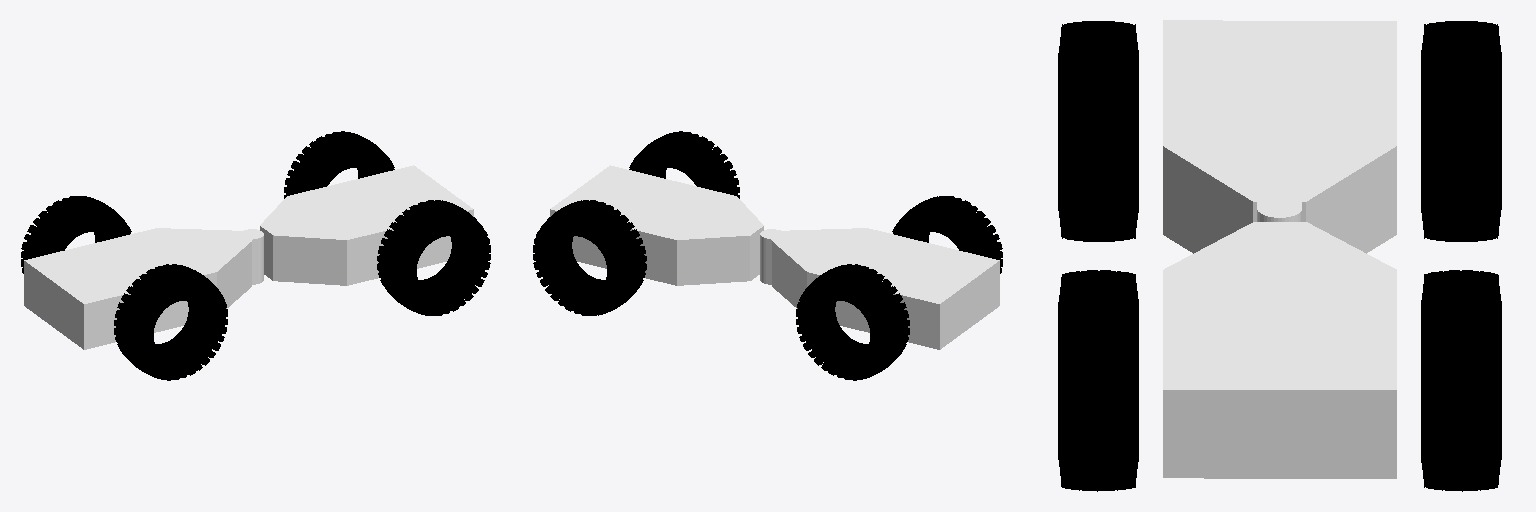
robot.urdf — wagon:
<?xml version="1.0" ?>
<!-- =================================================================================== -->
<!-- |    This document was autogenerated by xacro from wagon.xacro                    | -->
<!-- |    EDITING THIS FILE BY HAND IS NOT RECOMMENDED                                 | -->
<!-- =================================================================================== -->
<robot name="wagon">
  <!-- Init colour -->
  <material name="black">
    <color rgba="0.0 0.0 0.0 1.0"/>
  </material>
  <material name="dark">
    <color rgba="0.3 0.3 0.3 1.0"/>
  </material>
  <material name="light_black">
    <color rgba="0.4 0.4 0.4 1.0"/>
  </material>
  <material name="blue">
    <color rgba="0.0 0.0 0.8 1.0"/>
  </material>
  <material name="green">
    <color rgba="0.0 0.8 0.0 1.0"/>
  </material>
  <material name="grey">
    <color rgba="0.5 0.5 0.5 1.0"/>
  </material>
  <material name="orange">
    <color rgba="1.0 0.4235294117647059 0.0392156862745098 1.0"/>
  </material>
  <material name="brown">
    <color rgba="0.8705882352941177 0.8117647058823529 0.7647058823529411 1.0"/>
  </material>
  <material name="red">
    <color rgba="0.8 0.0 0.0 1.0"/>
  </material>
  <material name="white">
    <color rgba="1.0 1.0 1.0 1.0"/>
  </material>
  <material name="acrylic">
    <color rgba="0.9 0.9 1.0 0.6"/>
  </material>
  <link name="base_footprint"/>
  <joint name="base_joint" type="fixed">
    <parent link="base_footprint"/>
    <child link="base_link"/>
    <origin rpy="0 0 0" xyz="0.6948 0 0"/>
  </joint>
  <link name="base_link">
    <visual>
      <origin rpy="0 0 1.57" xyz="0 0 0"/>
      <geometry>
        <mesh filename="package://wagon_description/meshes/bases/Simplified_Front_Centered.stl" scale="0.001 0.001 0.001"/>
      </geometry>
      <material name="white"/>
    </visual>
    <collision>
      <origin rpy="0 0 0" xyz="-0.1873 0 0"/>
      <geometry>
        <box size="1.055 0.620 0.260"/>
      </geometry>
    </collision>
    <inertial>
      <origin rpy="0 1.5707963267948966 0" xyz="-0.142 0 0"/>
      <mass value="135.5"/>
      <inertia ixx="6.189" ixy="0" ixz="-0.009" iyy="17.997" iyz="0" izz="21.229"/>
    </inertial>
  </link>
  <joint name="hydrolic_joint" type="revolute">
    <axis xyz="0 0 1"/>
    <limit effort="1000.0" lower="-0.550" upper="0.550" velocity="0.5"/>
    <origin rpy="0 0 0" xyz="-0.7797999999999999 0.0 0"/>
    <parent link="base_link"/>
    <child link="hydrolic_link"/>
  </joint>
  <link name="hydrolic_link">
    </link>
  <joint name="rear_joint" type="fixed">
    <parent link="hydrolic_link"/>
    <child link="rear_link"/>
    <origin rpy="0 0 0" xyz="-0.7866000000000001 0 0"/>
  </joint>
  <link name="rear_link">
    <visual>
      <origin rpy="0 0 1.57" xyz="0 0 0"/>
      <geometry>
        <mesh filename="package://wagon_description/meshes/bases/Simplified_Back_Centered.stl" scale="0.001 0.001 0.001"/>
      </geometry>
      <material name="white"/>
    </visual>
    <!-- ${-0.8716+hydrolic_offset-(1.180/2)+0.02} -->
    <!-- ${(1.180/2) + 0.8716+hydrolic_offset+0.02-1.180} -->
    <collision>
      <origin rpy="0 0 0" xyz="0.09 0 0"/>
      <geometry>
        <box size="1.02 0.620 0.260"/>
      </geometry>
    </collision>
    <inertial>
      <origin rpy="0 0 0" xyz="0.142 0 0"/>
      <mass value="140.5"/>
      <inertia ixx="6.189" ixy="0" ixz="-0.009" iyy="17.997" iyz="0" izz="21.229"/>
    </inertial>
  </link>
  <joint name="wheel_front_right_joint" type="continuous">
    <parent link="base_link"/>
    <child link="wheel_front_right_link"/>
    <origin rpy="0 0 0" xyz="0 -0.4815 0"/>
    <axis xyz="0 1 0"/>
  </joint>
  <link name="wheel_front_right_link">
    <visual>
      <origin rpy="1.57 0 0" xyz="0 0 0"/>
      <geometry>
        <mesh filename="package://wagon_description/meshes/wheels/Wheel.stl" scale="0.001 0.001 0.001"/>
        <!--
      <origin xyz="0 0 0" rpy="0 0 0"/>
      <geometry>
        <cylinder length="0.07" radius="0.12"/>
        -->
      </geometry>
      <material name="black"/>
    </visual>
    <collision>
      <origin rpy="1.57 0 0" xyz="0 0 0"/>
      <geometry>
        <cylinder length="0.215" radius="0.292"/>
      </geometry>
    </collision>
    <inertial>
      <origin rpy="1.57 0 0" xyz="0 0 0"/>
      <mass value="40.5"/>
      <inertia ixx="1.05" ixy="1.0783e-10" ixz="-0.023" iyy="1.83" iyz="-0.898e-11" izz="1.05"/>
    </inertial>
  </link>
  <joint name="wheel_front_left_joint" type="continuous">
    <parent link="base_link"/>
    <child link="wheel_front_left_link"/>
    <origin rpy="0 0 0" xyz="0 0.4815 0"/>
    <axis xyz="0 1 0"/>
  </joint>
  <link name="wheel_front_left_link">
    <visual>
      <origin rpy="1.57 0 0" xyz="0 0 0"/>
      <geometry>
        <mesh filename="package://wagon_description/meshes/wheels/Wheel.stl" scale="0.001 0.001 0.001"/>
        <!--
      <origin xyz="0 0 0" rpy="0 0 0"/>
      <geometry>
        <cylinder length="0.07" radius="0.12"/>
        -->
      </geometry>
      <material name="black"/>
    </visual>
    <collision>
      <origin rpy="1.57 0 0" xyz="0 0 0"/>
      <geometry>
        <cylinder length="0.215" radius="0.294"/>
      </geometry>
    </collision>
    <inertial>
      <origin rpy="1.57 0 0" xyz="0 0 0"/>
      <mass value="40.5"/>
      <inertia ixx="1.05" ixy="1.0783e-10" ixz="-0.023" iyy="1.83" iyz="-0.898e-11" izz="1.05"/>
    </inertial>
  </link>
  <joint name="wheel_rear_right_joint" type="continuous">
    <parent link="rear_link"/>
    <child link="wheel_rear_right_link"/>
    <origin rpy="0 0 0" xyz="0 -0.4815 0"/>
    <axis xyz="0 1 0"/>
  </joint>
  <link name="wheel_rear_right_link">
    <visual>
      <origin rpy="1.57 0 0" xyz="0 0 0"/>
      <geometry>
        <mesh filename="package://wagon_description/meshes/wheels/Wheel.stl" scale="0.001 0.001 0.001"/>
        <!--
      <origin xyz="0 0 0" rpy="0 0 0"/>
      <geometry>
        <cylinder length="0.07" radius="0.12"/>
        -->
      </geometry>
      <material name="black"/>
    </visual>
    <collision>
      <origin rpy="1.57 0 0" xyz="0 0 0"/>
      <geometry>
        <cylinder length="0.215" radius="0.294"/>
      </geometry>
    </collision>
    <inertial>
      <origin rpy="0 0 0" xyz="0 0 0"/>
      <mass value="40.5"/>
      <inertia ixx="1.05" ixy="1.0783e-10" ixz="-0.023" iyy="1.83" iyz="-0.898e-11" izz="1.05"/>
    </inertial>
  </link>
  <joint name="wheel_rear_left_joint" type="continuous">
    <parent link="rear_link"/>
    <child link="wheel_rear_left_link"/>
    <origin rpy="0 0 0" xyz="0 0.4815 0"/>
    <axis xyz="0 1 0"/>
  </joint>
  <link name="wheel_rear_left_link">
    <visual>
      <origin rpy="1.57 0 0" xyz="0 0 0"/>
      <geometry>
        <mesh filename="package://wagon_description/meshes/wheels/Wheel.stl" scale="0.001 0.001 0.001"/>
        <!--
      <origin xyz="0 0 0" rpy="0 0 0"/>
      <geometry>
        <cylinder length="0.07" radius="0.12"/>
        -->
      </geometry>
      <material name="black"/>
    </visual>
    <collision>
      <origin rpy="1.57 0 0" xyz="0 0 0"/>
      <geometry>
        <cylinder length="0.215" radius="0.294"/>
      </geometry>
    </collision>
    <inertial>
      <origin rpy="1.57 0 0" xyz="0 0 0"/>
      <mass value="40.5"/>
      <inertia ixx="1.05" ixy="1.0783e-10" ixz="-0.023" iyy="1.83" iyz="-0.898e-11" izz="1.05"/>
    </inertial>
  </link>
</robot>

--- What the picture shows (computed from the rendered views, not written in the file) ---
The picture shows the robot from 3 angles, left to right: view 1: azimuth 30°, elevation 25°; view 2: azimuth 150°, elevation 25°; view 3: azimuth 270°, elevation 25°; orthographic projection.
Model wagon with 8 links and 7 joints (1 revolute, 4 continuous, 2 fixed), rooted at base_footprint, posed all joints at 0.
Links seen in each view (by area): view 1: rear_link, base_link, wheel_front_right_link, wheel_rear_right_link, wheel_rear_left_link, wheel_front_left_link; view 2: rear_link, base_link, wheel_front_left_link, wheel_rear_left_link, wheel_rear_right_link, wheel_front_right_link; view 3: base_link, rear_link, wheel_rear_left_link, wheel_rear_right_link, wheel_front_right_link, wheel_front_left_link.
Link boxes in pixels (bbox=[...]): rear_link: bbox=[24, 228, 263, 349]; base_link: bbox=[260, 165, 473, 285]; wheel_front_right_link: bbox=[377, 200, 490, 315]; wheel_rear_right_link: bbox=[114, 264, 227, 380]; wheel_rear_left_link: bbox=[21, 196, 131, 273]; wheel_front_left_link: bbox=[284, 131, 394, 198]; rear_link: bbox=[760, 228, 999, 349]; base_link: bbox=[550, 165, 763, 285]; wheel_front_left_link: bbox=[533, 200, 646, 315]; wheel_rear_left_link: bbox=[796, 264, 909, 380]; wheel_rear_right_link: bbox=[892, 196, 1002, 273]; wheel_front_right_link: bbox=[629, 131, 739, 198]; base_link: bbox=[1163, 222, 1396, 478]; rear_link: bbox=[1163, 20, 1396, 253]; wheel_rear_left_link: bbox=[1421, 21, 1501, 241]; wheel_rear_right_link: bbox=[1058, 21, 1138, 241]; wheel_front_right_link: bbox=[1058, 270, 1138, 491]; wheel_front_left_link: bbox=[1421, 270, 1501, 491].
Size in the robot's own frame: 2.32 by 1.18 by 0.5879 metres.
6 mesh visuals loaded from 3 distinct referenced files (3 binary STL).
